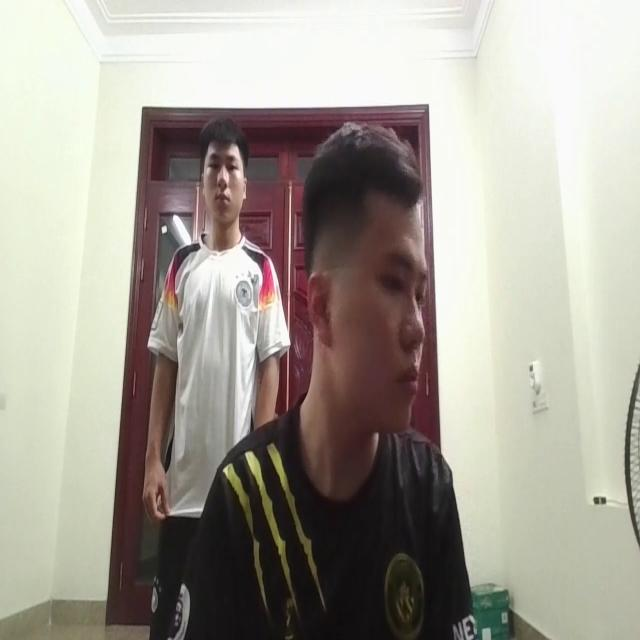extra_person: (139, 112, 282, 516)
student: (228, 126, 463, 640)
